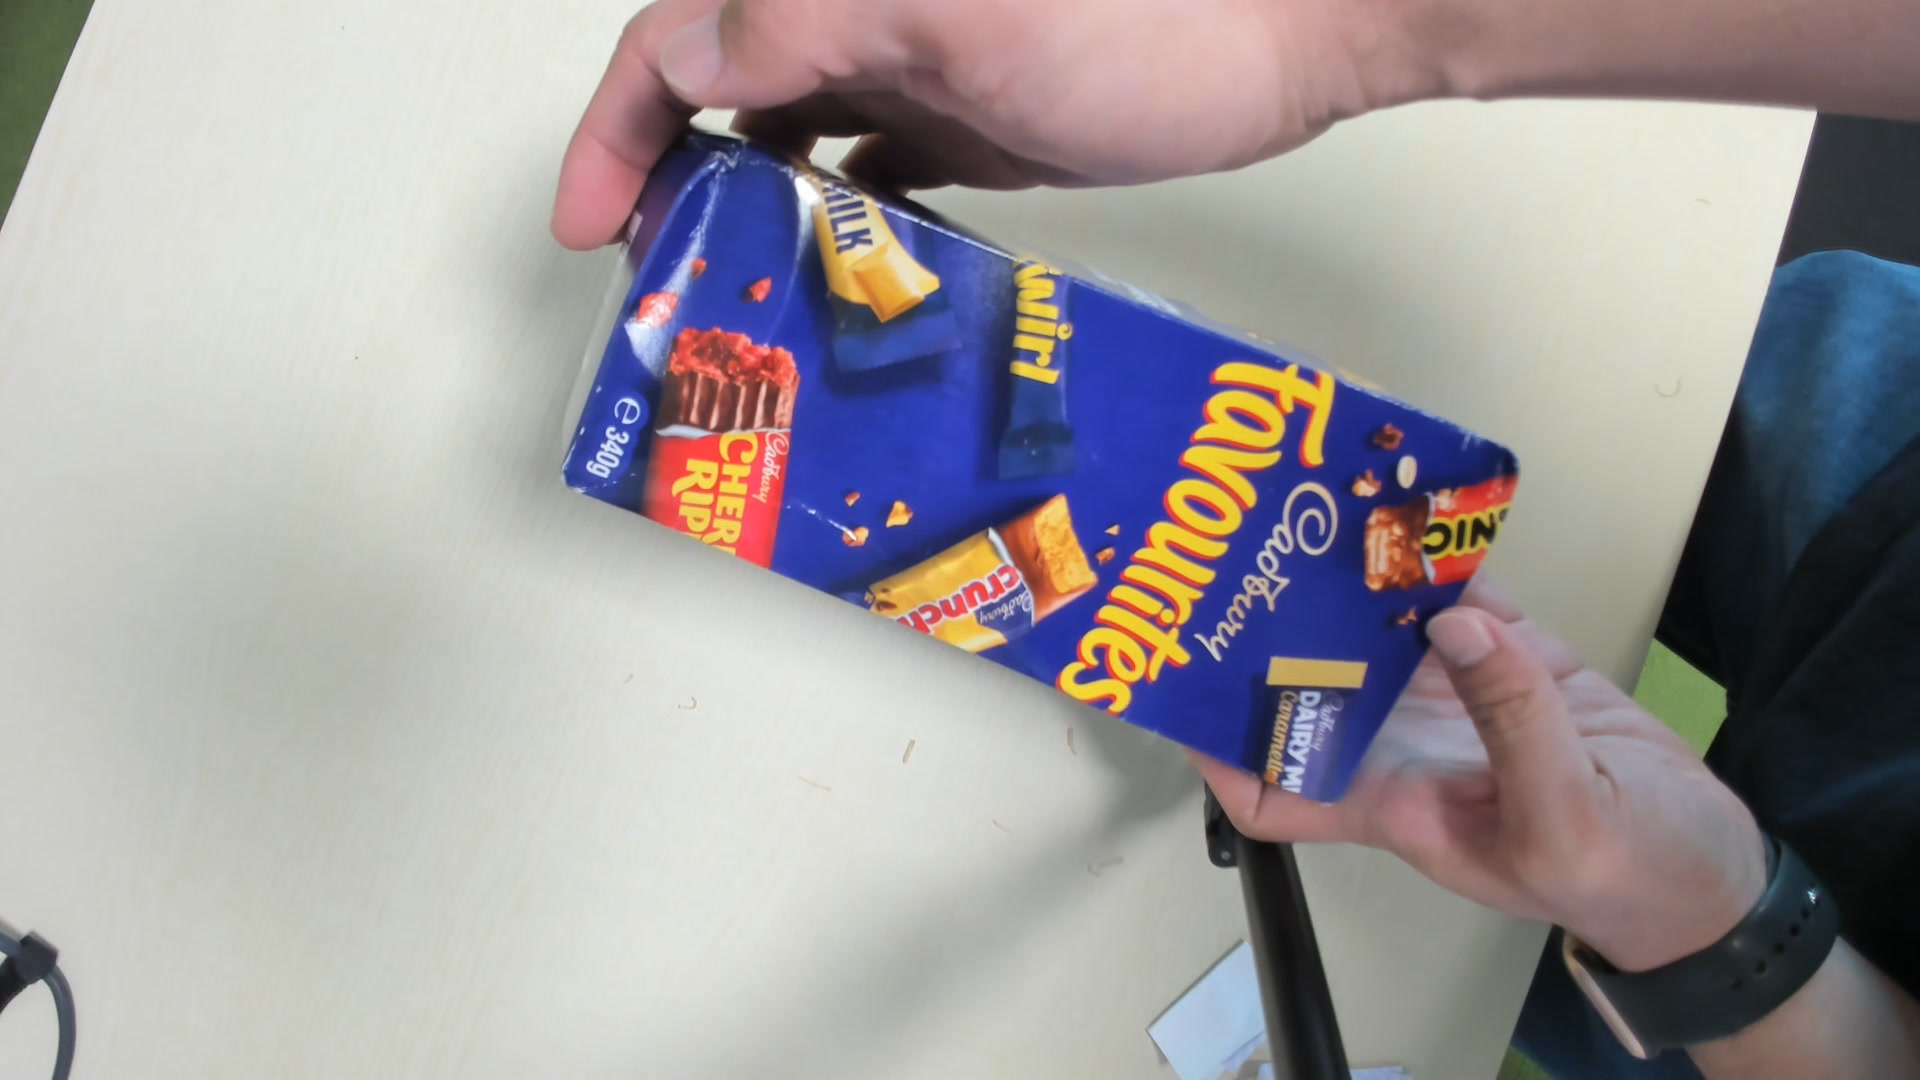SweetsChocolatesOthers_300-399g_NonHalal_Nonhealthy: (546, 146, 1511, 815)
